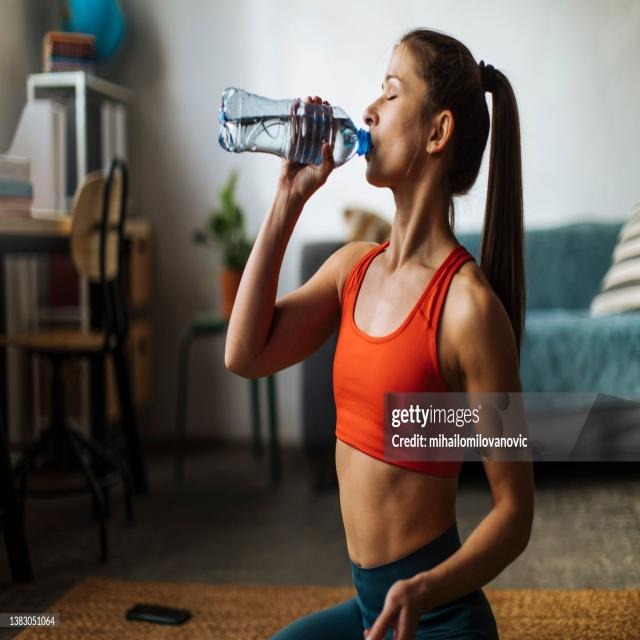bottle: (215, 89, 372, 174)
